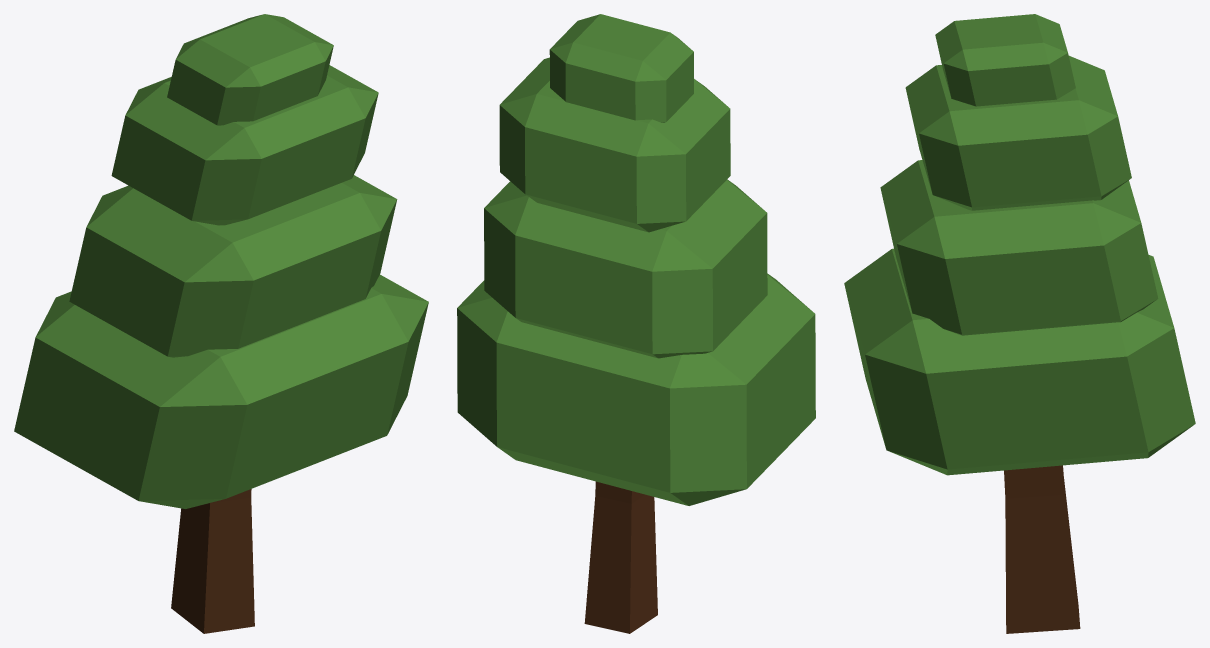
The model's file is Arbol2.fbx.
The picture shows the model from 3 angles, left to right: view 1: azimuth 30°, elevation 25°; view 2: azimuth 150°, elevation 25°; view 3: azimuth 270°, elevation 25°; orthographic projection. The views are drawn at different scales.
Visible parts, largest first — view 1: tree.185; view 2: tree.185; view 3: tree.185.
Boxes of the visible parts, left/top/right/bottom form: tree.185: left=14, top=14, right=428, bottom=633; tree.185: left=457, top=14, right=815, bottom=633; tree.185: left=844, top=14, right=1195, bottom=633.
Size of the model in its own units: 1.17 by 2.04 by 1.08.
